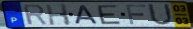A: (74, 4, 100, 25)
E: (95, 5, 123, 26)
F: (124, 4, 148, 25)
H: (45, 3, 73, 26)
R: (22, 4, 49, 26)
U: (147, 3, 175, 27)
